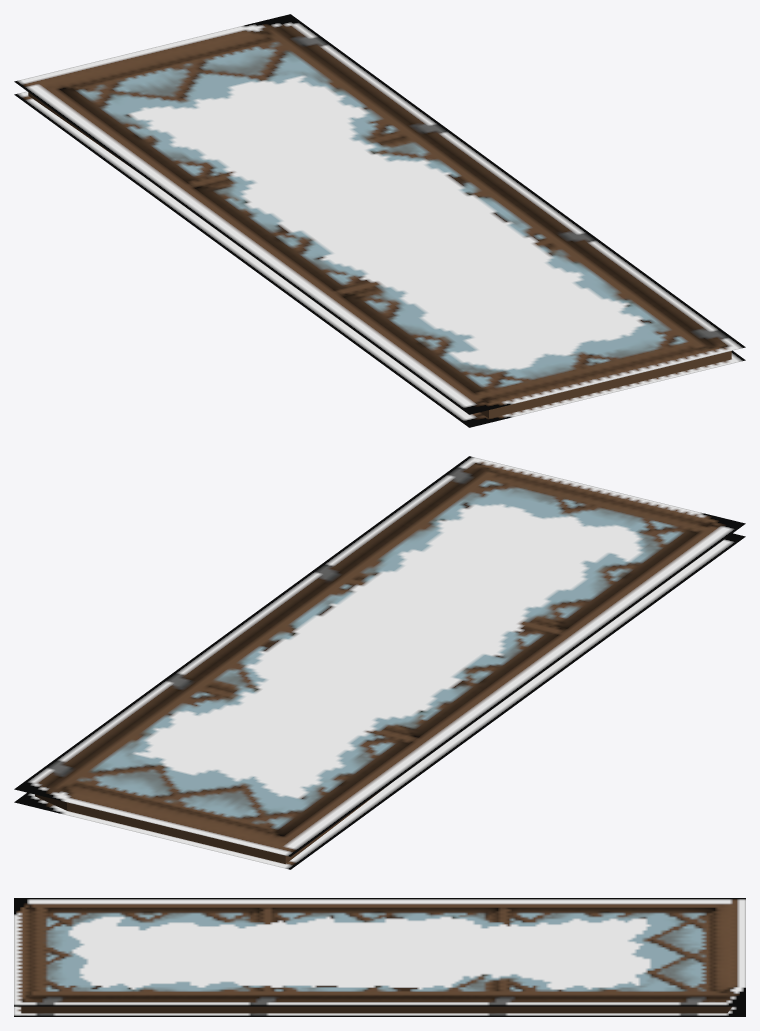
File: pz_native_fixtures_windows_church_87_frame.obj
The picture shows the model from 3 angles, top to bottom: view 1: azimuth 30°, elevation 25°; view 2: azimuth 150°, elevation 25°; view 3: azimuth 270°, elevation 25°; orthographic projection. The views are drawn at different scales.
Parts seen in each view (by area): view 1: pz_native_fixtures_windows_church_87_frame; view 2: pz_native_fixtures_windows_church_87_frame; view 3: pz_native_fixtures_windows_church_87_frame.
Part boxes in pixels (x1,y1,x2,y2): pz_native_fixtures_windows_church_87_frame: (14, 14, 745, 427); pz_native_fixtures_windows_church_87_frame: (14, 456, 745, 869); pz_native_fixtures_windows_church_87_frame: (14, 898, 745, 1016).
Bounding box in the file's own units: 0.8906 × 0.04 × 2.54.
Materials: 1 (1 with a texture image).
